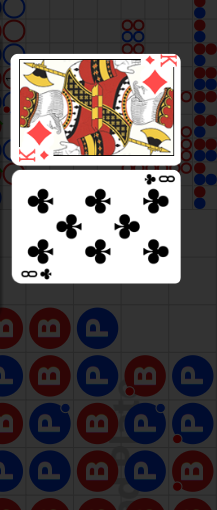8C: (20, 266, 54, 281)
KD: (144, 53, 179, 67)
